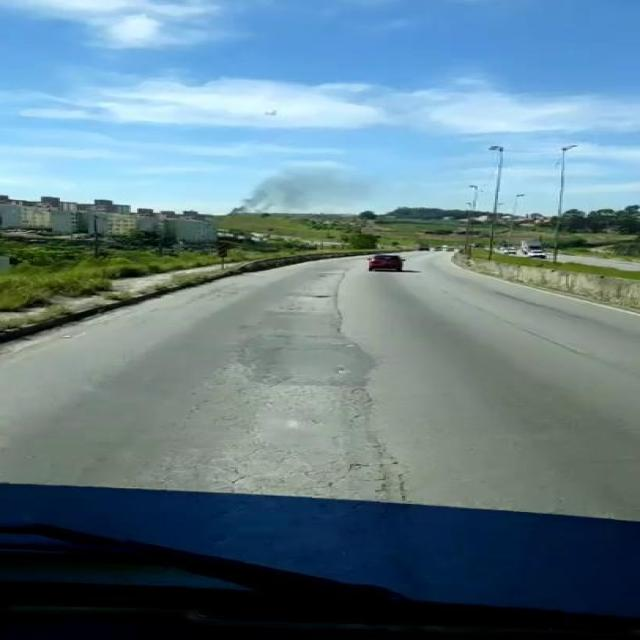Smoke: (214, 156, 391, 218)
